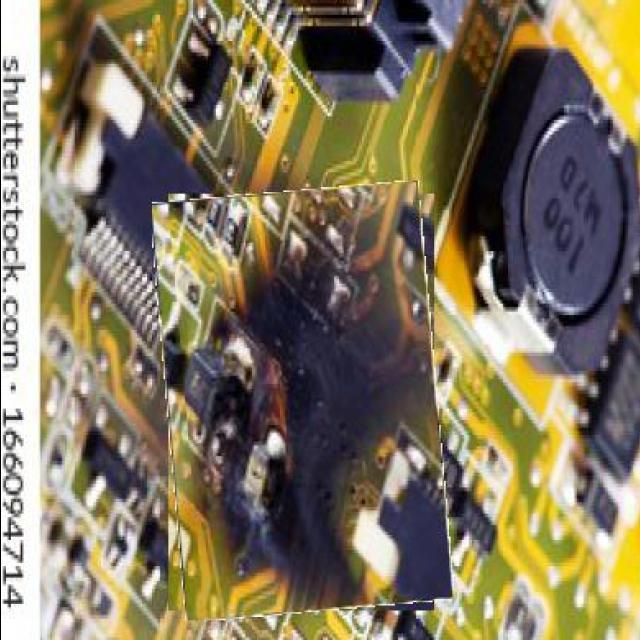Burn: (158, 187, 444, 617)
